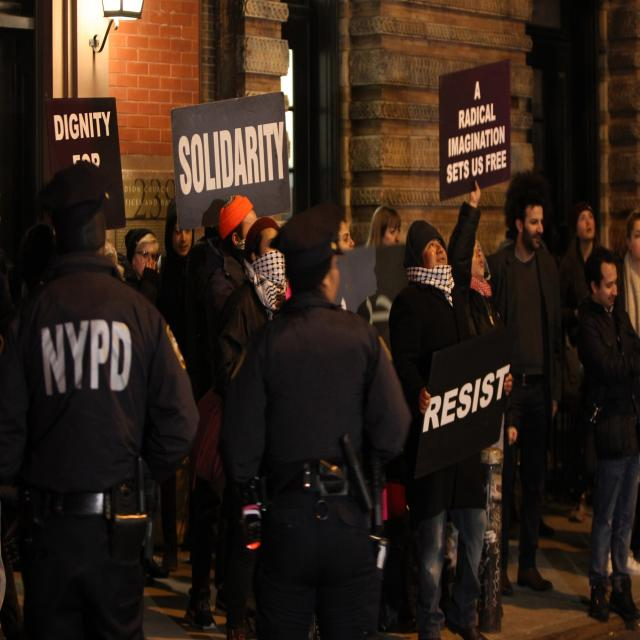body: (0, 150, 207, 639), (217, 196, 420, 640), (388, 220, 513, 640), (445, 179, 513, 637), (488, 168, 560, 599), (184, 195, 252, 636), (578, 246, 640, 624), (555, 197, 612, 525), (156, 195, 200, 572), (0, 222, 125, 354), (123, 227, 170, 578), (216, 212, 290, 401), (206, 194, 258, 381), (0, 526, 31, 640), (615, 208, 640, 334), (365, 204, 402, 249), (321, 212, 356, 255)
